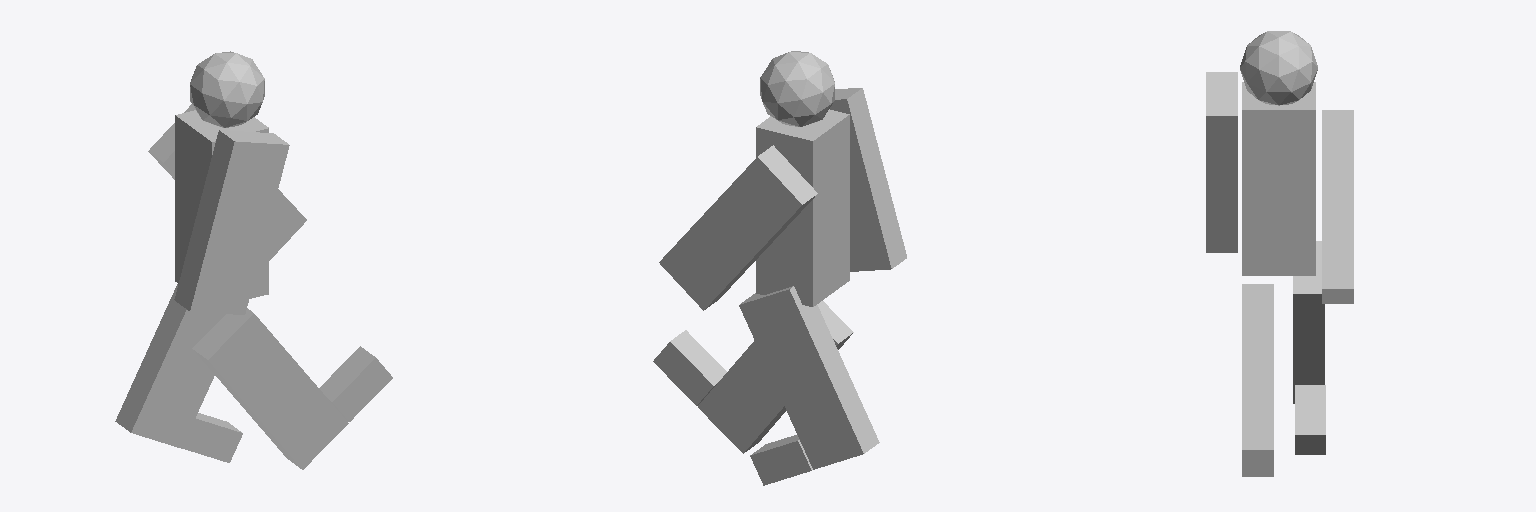
Rendered from player_000022.obj.
3 renders of one model, left to right at view 1: azimuth 30°, elevation 25°; view 2: azimuth 150°, elevation 25°; view 3: azimuth 270°, elevation 25°, orthographic.
Visible parts, largest first — view 1: Cube.013, Cube.010, Cube.008, Cube.007, Icosphere.001, Cube.011, Cube.012, Cube.009; view 2: Cube.008, Cube.007, Cube.012, Cube.013, Cube.010, Icosphere.001, Cube.011, Cube.009; view 3: Cube.007, Cube.012, Cube.013, Cube.010, Icosphere.001, Cube.008, Cube.009, Cube.011.
Part boxes in pixels (x1,y1,x2,y2): Cube.013: (174, 130, 289, 314); Cube.010: (192, 308, 348, 469); Cube.008: (115, 284, 225, 448); Cube.007: (175, 110, 268, 298); Icosphere.001: (190, 51, 264, 127); Cube.011: (319, 346, 392, 421); Cube.012: (148, 104, 306, 260); Cube.009: (182, 413, 242, 462); Cube.008: (739, 286, 879, 469); Cube.007: (756, 109, 849, 306); Cube.012: (659, 145, 817, 310); Cube.013: (830, 88, 906, 271); Cube.010: (698, 301, 853, 453); Icosphere.001: (760, 51, 834, 126); Cube.011: (653, 330, 726, 405); Cube.009: (750, 435, 812, 485); Cube.007: (1242, 82, 1315, 275); Cube.012: (1322, 110, 1353, 303); Cube.013: (1206, 72, 1237, 252); Cube.010: (1242, 284, 1273, 476); Icosphere.001: (1240, 31, 1317, 105); Cube.008: (1293, 241, 1324, 403); Cube.009: (1295, 385, 1325, 454); Cube.011: (1242, 418, 1273, 462).
Size of the model in its own units: 1.7 by 2.85 by 0.9137.